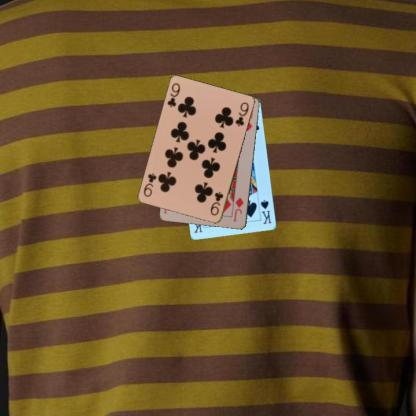9c: (165, 80, 182, 109), (208, 189, 225, 217)
Jd: (231, 195, 245, 223)
Ks: (258, 197, 273, 225)
